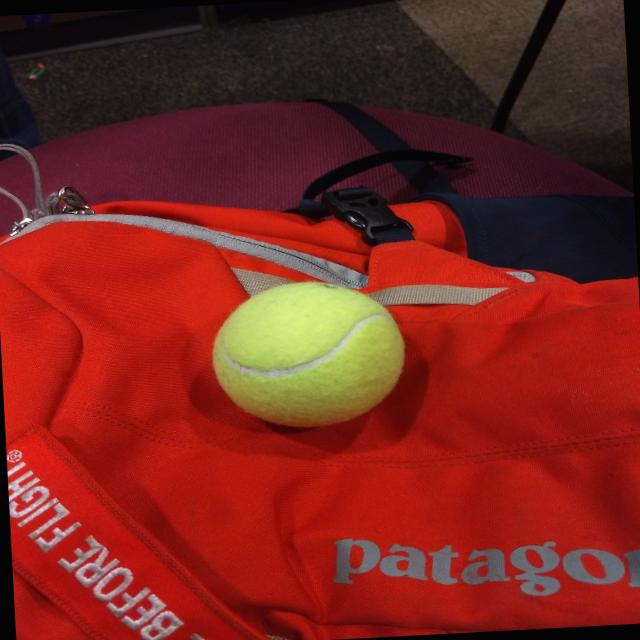tennis-ball: (211, 278, 411, 434)
